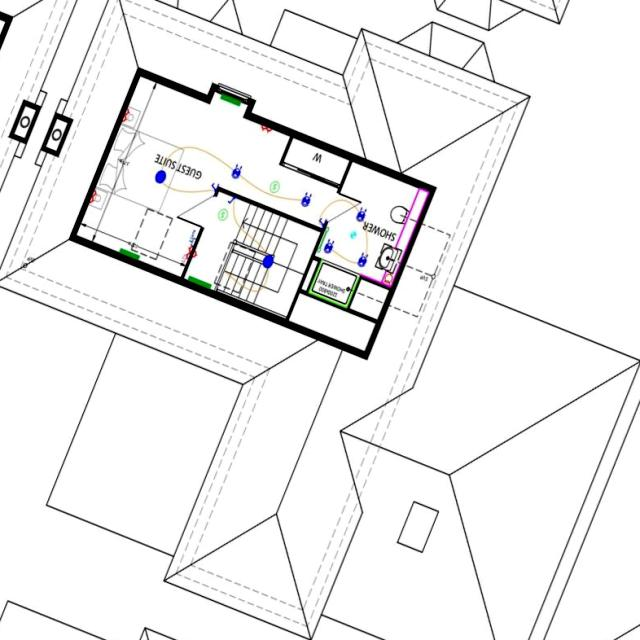Cat 6 Data Socket: (190, 230, 198, 247)
Ceiling Mounted Continuous Extract FanWith Boost Mode Activated By Light Switch: (220, 94, 242, 106), (351, 232, 357, 240)
Co-Ax TV Socket: (182, 258, 190, 266)
Double Socket: (121, 109, 132, 123), (90, 190, 100, 204), (186, 248, 194, 260), (262, 126, 274, 134)
Full Height Tiling: (308, 262, 361, 310)
Light Switch: (212, 183, 218, 193), (228, 197, 236, 204), (320, 219, 326, 227)
Low Energy Downlighter: (358, 253, 370, 268), (324, 240, 336, 255), (301, 193, 313, 208), (232, 165, 243, 180), (357, 209, 368, 223)
Low Energy Pendant Light: (263, 256, 275, 270), (155, 171, 167, 185)
Mains Wired Smoke Detector: (270, 182, 281, 194), (219, 210, 229, 222)
Radiator: (189, 276, 212, 291), (120, 248, 142, 262)
Shaver Socket: (384, 271, 394, 288)
Single Socket: (193, 252, 199, 260)
